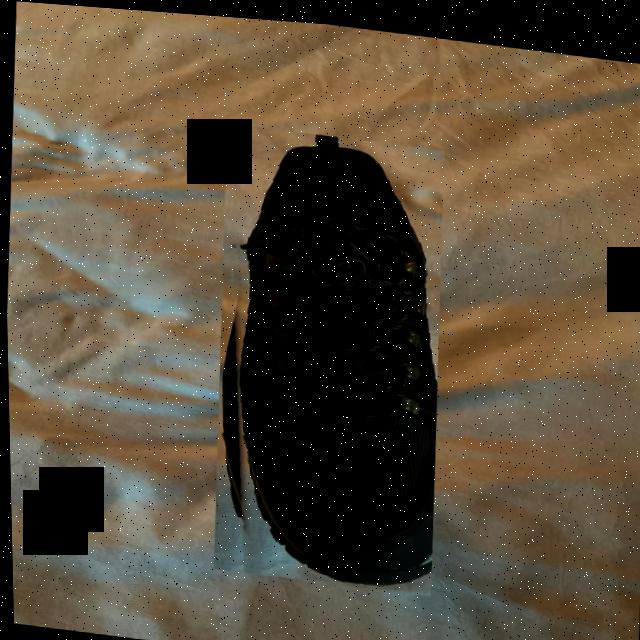shoe: (203, 118, 451, 591)
